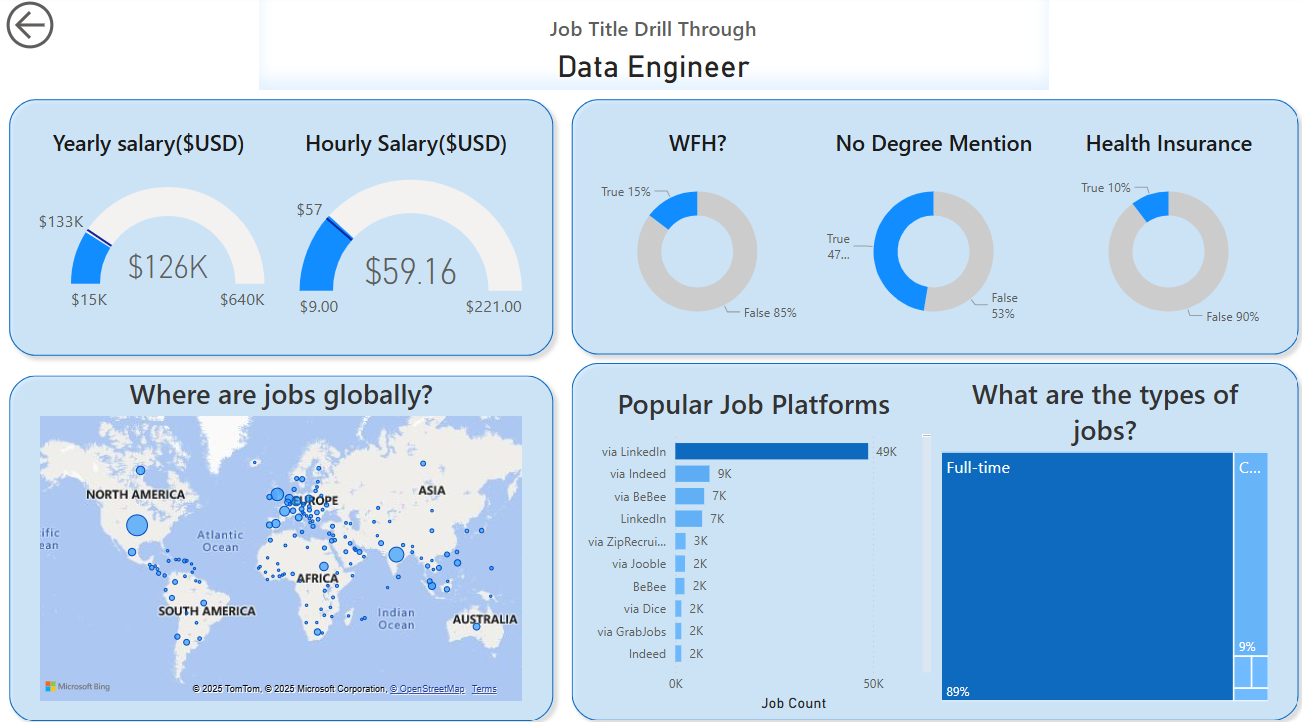

This screenshot's page, from the dashboard's own definition file:
{"tool":"powerbi","page":{"name":"Job Title Drill Through","canvas":[1280,720],"ordinal":1},"visuals":[{"type":"group","id":"g1","title":"Background Shapes","box":[0,92.9,1280.3,627.3],"z":0},{"type":"shape","box":[0,92.9,550.3,269],"z":0,"group":"g1"},{"type":"donutChart","title":"WFH?","fields":{"Category":["job_postings_flat.job_work_from_home"],"Y":["CountNonNull(job_postings_flat.job_work_from_home)"]},"box":[569.8,129.4,225,207.9],"z":0,"group":"g2"},{"type":"gauge","title":"Yearly salary($USD)","fields":{"Y":["Median(job_postings_flat.salary_year_avg)"],"MinValue":["Min(job_postings_flat.salary_year_avg)"],"MaxValue":["Max(job_postings_flat.salary_year_avg)"],"TargetValue":["Avg(job_postings_flat.salary_year_avg)"]},"box":[26.6,130,237,207.9],"z":0,"group":"g3"},{"type":"cardVisual","fields":{"Data":["Min(job_postings_flat.job_title_short)"]},"box":[253.1,1.2,772.8,91.7],"z":1000},{"type":"shape","box":[550.3,93,730,267.8],"z":1000,"group":"g1"},{"type":"donutChart","title":"No Degree Mention","fields":{"Category":["job_postings_flat.job_no_degree_mention"],"Y":["CountNonNull(job_postings_flat.job_title_short)"]},"box":[800.3,129.4,225,207.9],"z":1000,"group":"g2"},{"type":"gauge","title":"Hourly Salary($USD)","fields":{"Y":["Median(job_postings_flat.salary_hour_avg)"],"MinValue":["Min(job_postings_flat.salary_hour_avg)1"],"MaxValue":["Max(job_postings_flat.salary_hour_avg)2"],"TargetValue":["Avg(job_postings_flat.salary_hour_avg)3"]},"box":[278.9,130,237,207.9],"z":1000,"group":"g3"},{"type":"actionButton","box":[0,0,68.5,58.7],"z":2000},{"type":"donutChart","title":"Health Insurance","fields":{"Category":["job_postings_flat.job_health_insurance"],"Y":["CountNonNull(job_postings_flat.job_work_from_home)"]},"box":[1030.5,129.4,225,207.9],"z":2000,"group":"g2"},{"type":"shape","box":[0,363.1,550.3,357.1],"z":2000,"group":"g1"},{"type":"shape","box":[550.3,350.9,730,368.1],"z":3000,"group":"g1"},{"type":"map","title":"Where are jobs globally?","fields":{"Category":["job_postings_flat.job_country"],"Size":["CountNonNull(job_postings_flat.job_title_short)"]},"box":[34.2,371.7,481.8,324.1],"z":3000},{"type":"treemap","title":"What are the types of jobs?","fields":{"Values":["CountNonNull(job_postings_flat.job_schedule_type)"],"Group":["job_postings_flat.job_schedule_type"]},"box":[915.9,371.7,330.2,324.1],"z":4000},{"type":"barChart","title":"Popular Job Platforms","fields":{"Category":["job_postings_flat.job_via"],"Y":["CountNonNull(job_postings_flat.job_title_short)"]},"box":[558.8,381.5,357.1,324.1],"z":5000},{"type":"group","id":"g2","title":"Pie Chart Group","box":[569.8,129.4,685.7,207.9],"z":6000},{"type":"group","id":"g3","title":"Gauge chart Group","box":[26.6,130,489.3,207.9],"z":7000}]}

Visuals, with their boxes in screenshot pixels (x1, y1, x2, y2), scaled from the page's 1280x720 canvas onto the 1302x722 screenshot:
"Background Shapes" group: locate(0, 93, 1301, 721)
shape: locate(0, 93, 560, 363)
"WFH?" donutChart: locate(580, 130, 808, 338)
"Yearly salary($USD)" gauge: locate(27, 130, 268, 339)
cardVisual - Min(job_postings_flat.job_title_short): locate(257, 1, 1044, 93)
shape: locate(560, 93, 1301, 362)
"No Degree Mention" donutChart: locate(814, 130, 1043, 338)
"Hourly Salary($USD)" gauge: locate(284, 130, 525, 339)
actionButton: locate(0, 0, 70, 59)
"Health Insurance" donutChart: locate(1048, 130, 1277, 338)
shape: locate(0, 364, 560, 721)
shape: locate(560, 352, 1301, 721)
"Where are jobs globally?" map: locate(35, 373, 525, 698)
"What are the types of jobs?" treemap: locate(932, 373, 1268, 698)
"Popular Job Platforms" barChart: locate(568, 383, 932, 708)
"Pie Chart Group" group: locate(580, 130, 1277, 338)
"Gauge chart Group" group: locate(27, 130, 525, 339)
